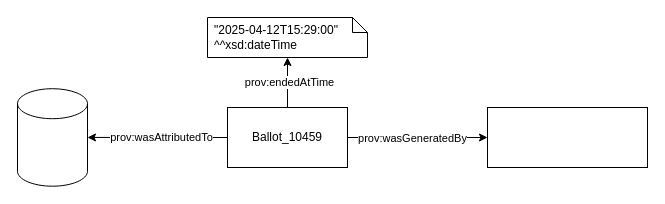
Some shapes in this 665 by 204 pixel diagram are drawn without their labels. The centre of each missing label's shape, as x and y in pixels:
Polling Station City Center: (x=52, y=137)
Presidential Election 2025: (x=567, y=137)
